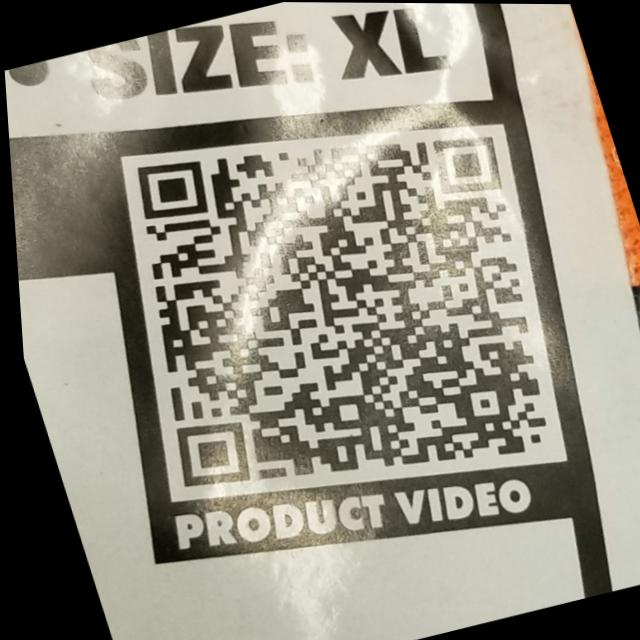QR_CODE: (58, 53, 603, 562)
